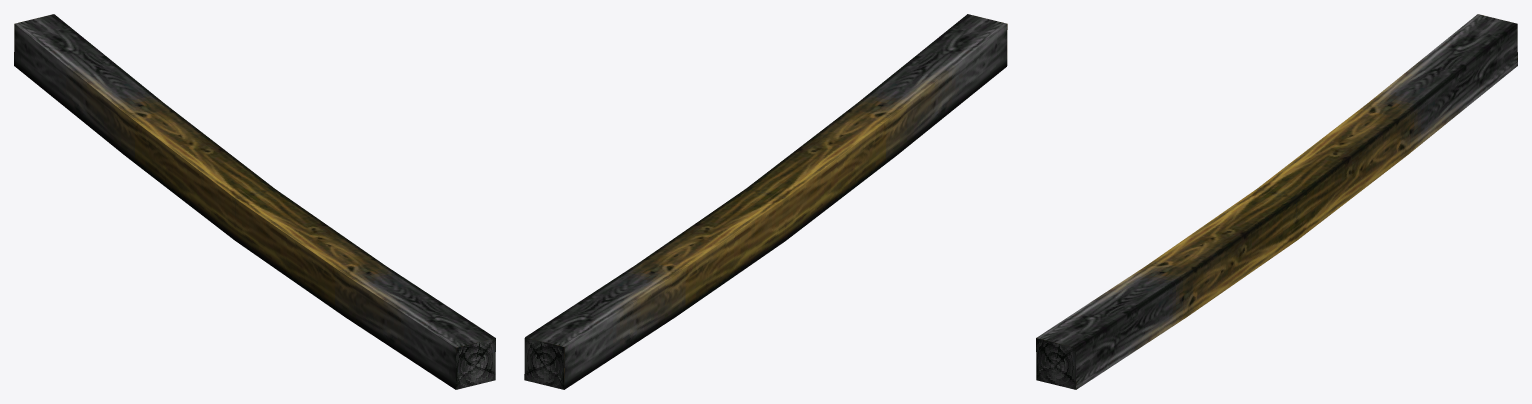
File: CB_BOARD1.fbx
3 renders of one model, left to right at view 1: azimuth 30°, elevation 25°; view 2: azimuth 150°, elevation 25°; view 3: azimuth 330°, elevation 25°, orthographic.
Parts seen in each view (by area): view 1: CB_BOARD1; view 2: CB_BOARD1; view 3: CB_BOARD1.
Part boxes in pixels (left/top/right/bottom): CB_BOARD1: left=14, top=14, right=495, bottom=389; CB_BOARD1: left=524, top=14, right=1007, bottom=389; CB_BOARD1: left=1036, top=14, right=1517, bottom=389.
Bounding box in the file's own units: 7515 × 10038 × 144767.
Materials: 2 (2 with a texture image).
